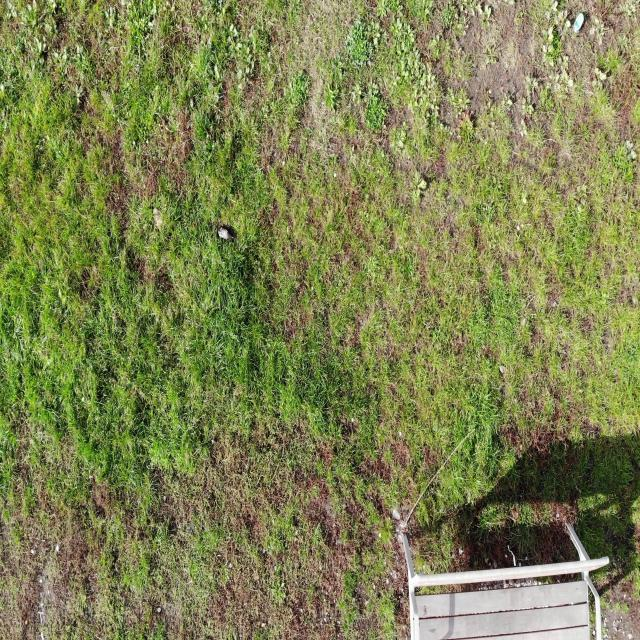rubbish: (216, 227, 237, 246), (572, 9, 586, 36)
